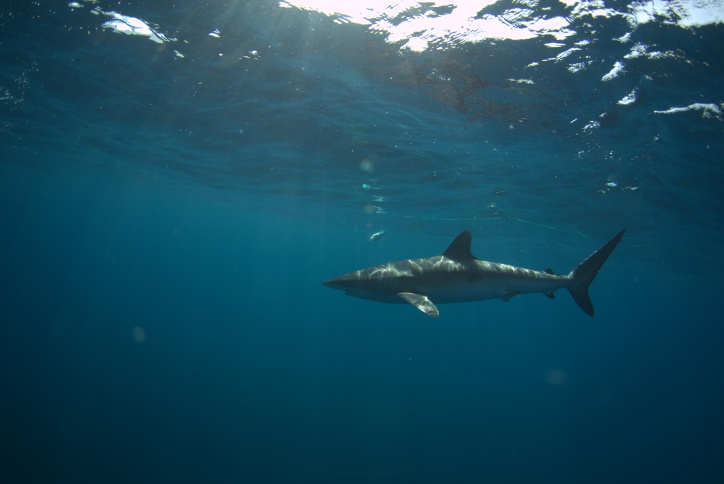Sedoso: (312, 214, 634, 328)
